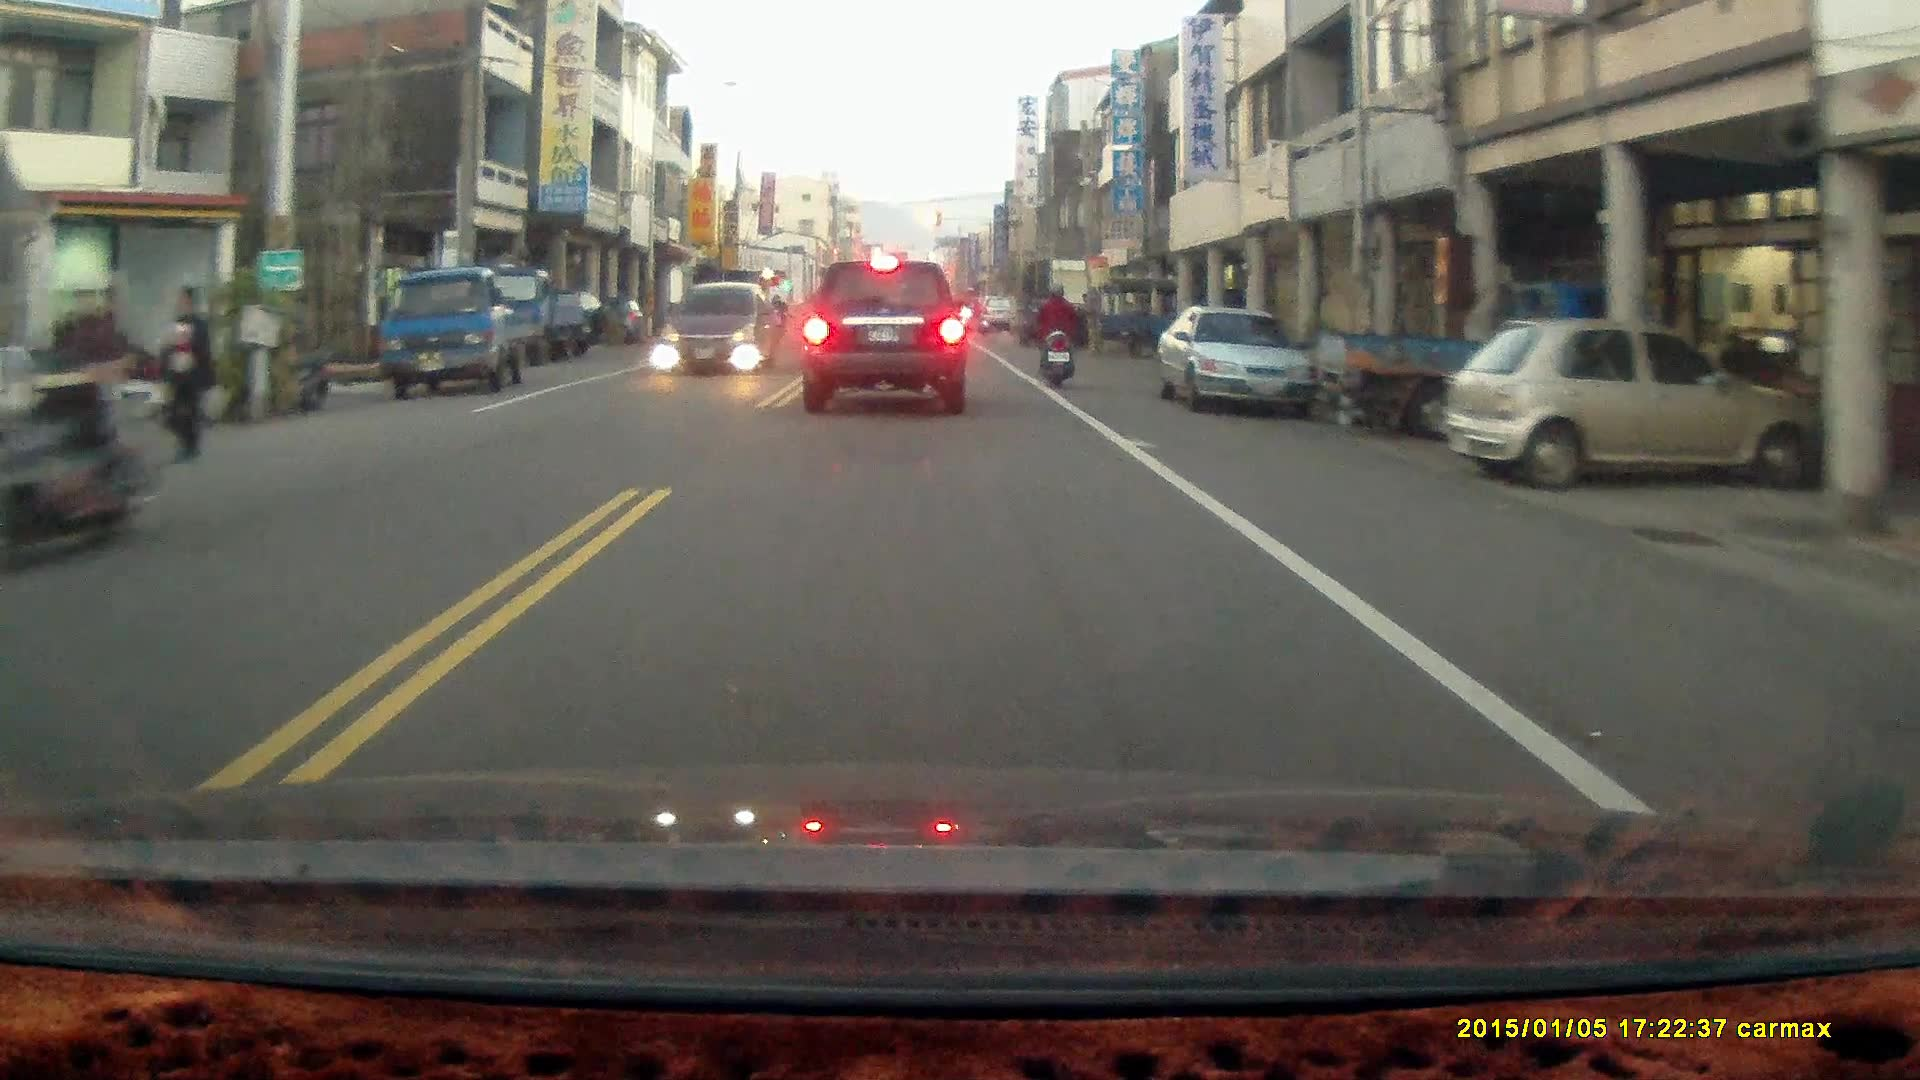pedestrian: (148, 283, 216, 467)
rider: (0, 259, 184, 559), (1034, 280, 1077, 386)
vehicle: (1456, 315, 1800, 495), (796, 254, 970, 416), (381, 265, 548, 397), (1156, 306, 1324, 413), (661, 279, 777, 373)
